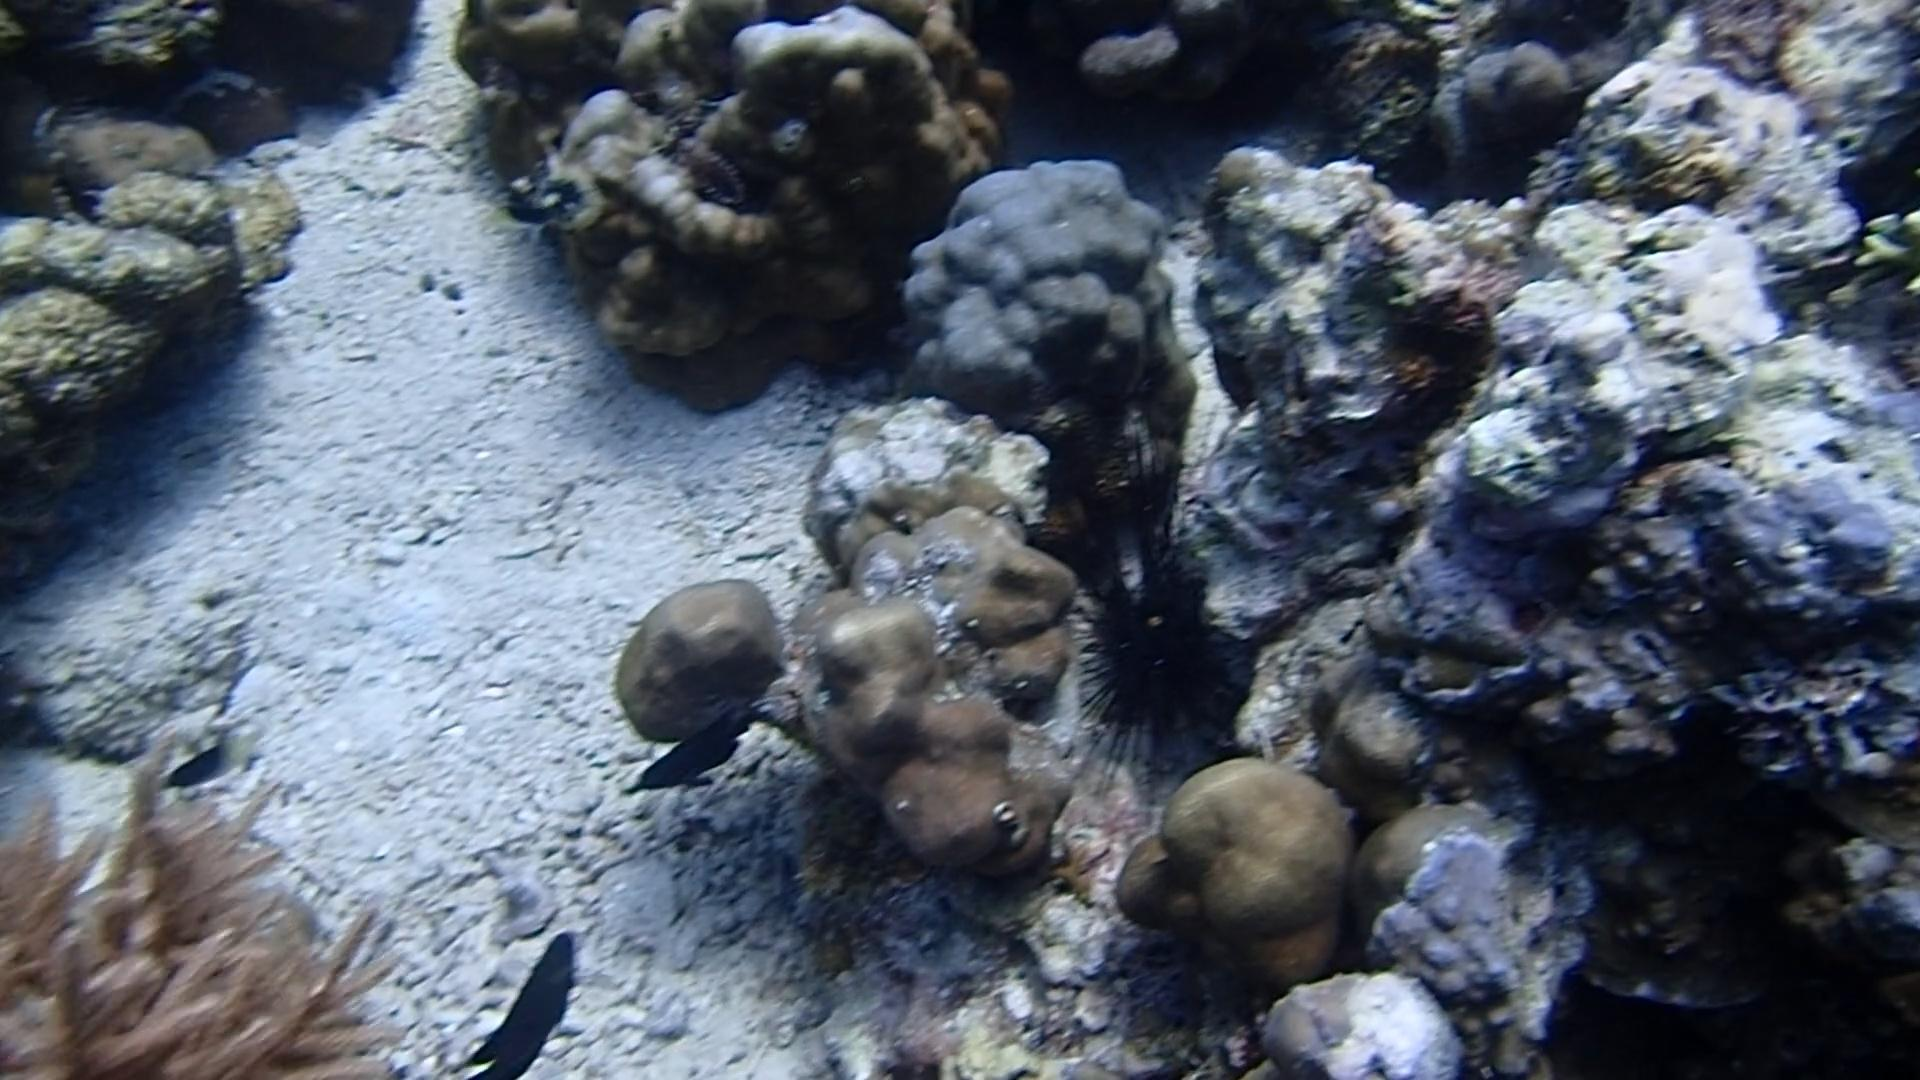Dark Fish: (443, 930, 593, 1077), (617, 708, 756, 799)
Yellow Tail: (162, 733, 255, 799), (481, 189, 564, 247)
